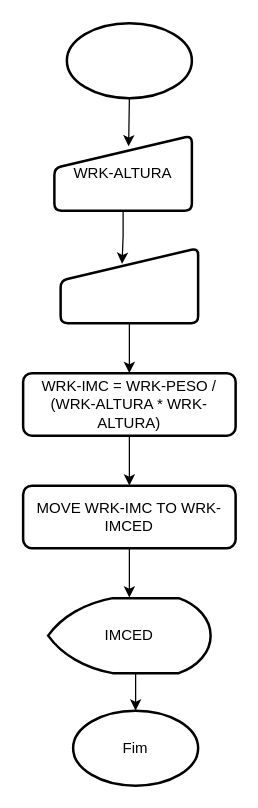
This 258x808 diagram has some shape labels left out. Here are the shapes that lost their labels. From the top down, the centre of each, then its label:
At pixel 128 60: "Inicio".
At pixel 129 285: "WRK-PESO".
